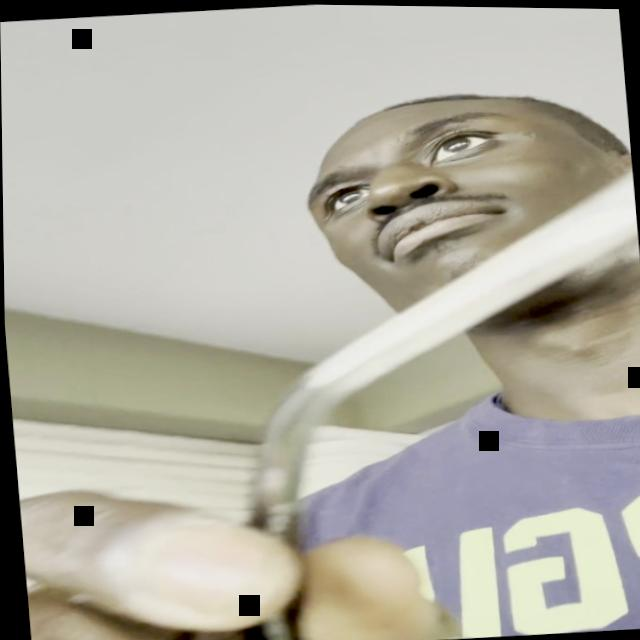NO-Mask: (287, 72, 640, 348)
